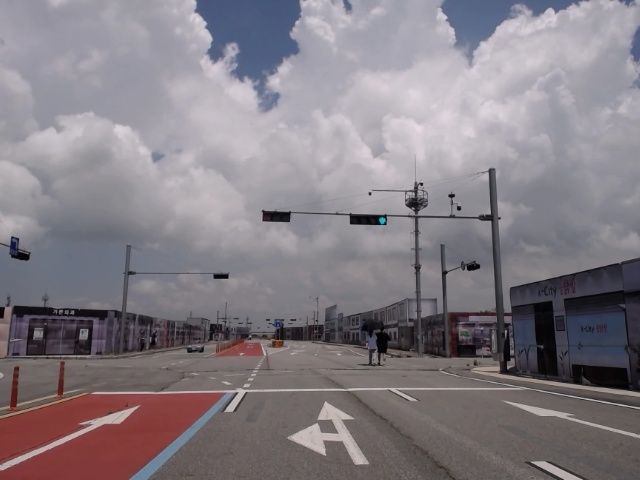straight_green_4: (348, 215, 385, 227)
